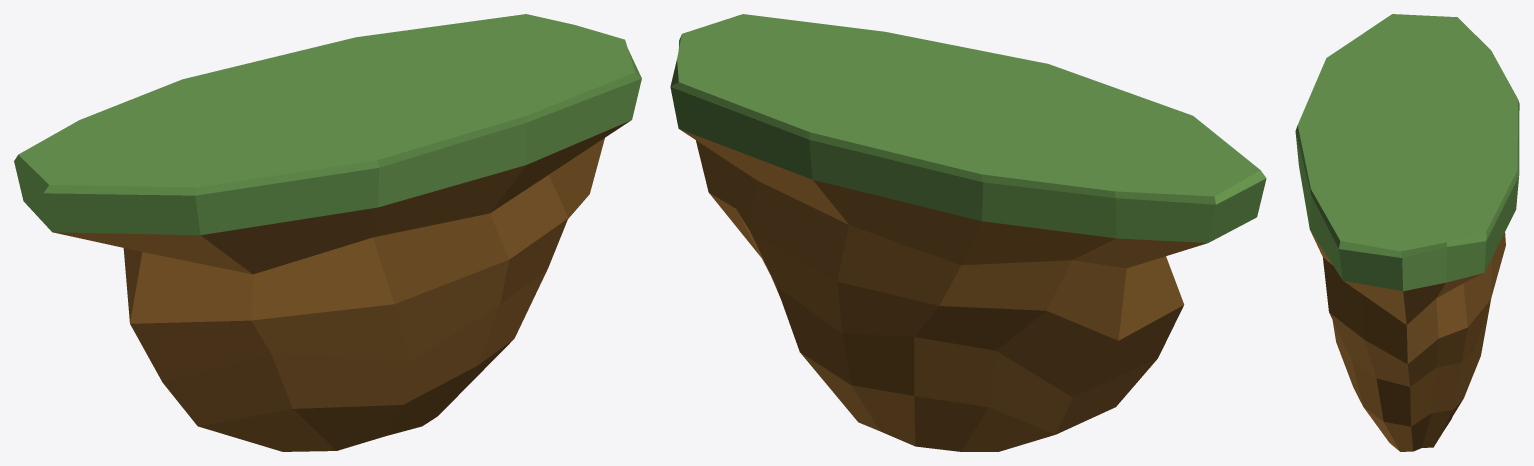
The model's file is Platform_BIG_2.fbx.
The picture shows the model from 3 angles, left to right: view 1: azimuth 30°, elevation 25°; view 2: azimuth 150°, elevation 25°; view 3: azimuth 270°, elevation 25°; orthographic projection. The views are drawn at different scales.
Parts seen in each view (by area): view 1: Platform; view 2: Platform; view 3: Platform.
Part boxes in pixels (bbox=[...]): Platform: bbox=[14, 14, 641, 451]; Platform: bbox=[670, 14, 1266, 451]; Platform: bbox=[1295, 14, 1519, 451].
Size of the model in its own units: 3807 by 2043 by 1497.
